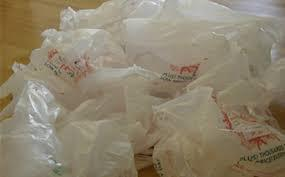Plastic bag: (0, 3, 285, 177)
